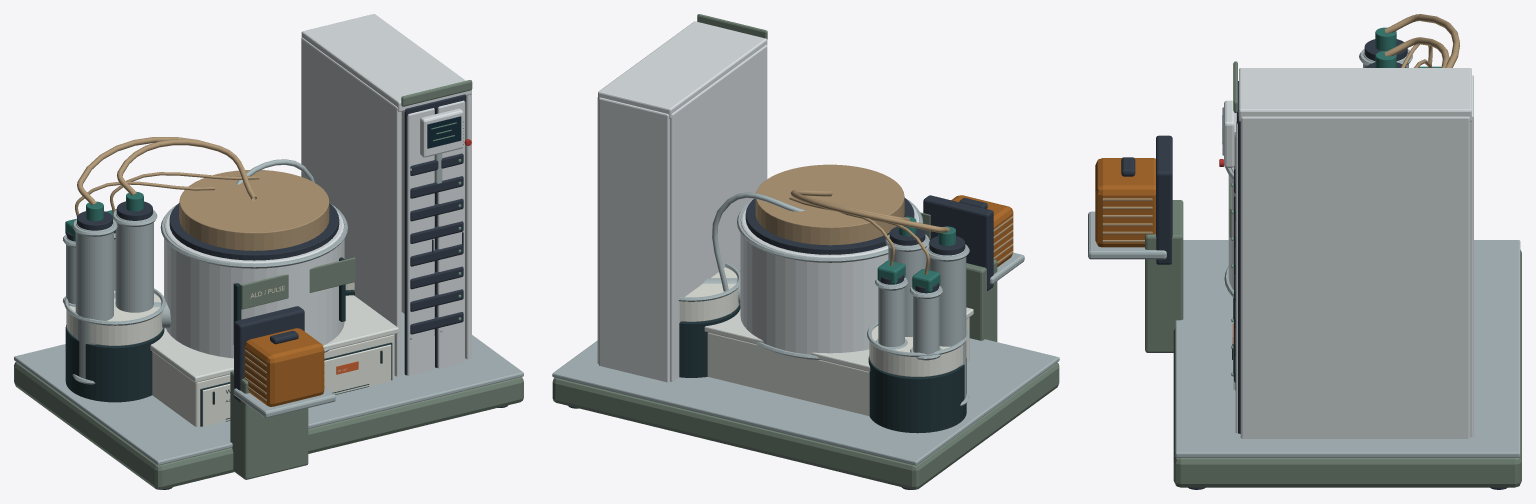
The model's file is equipment-ald.glb.
3 renders of one model, left to right at view 1: azimuth 30°, elevation 25°; view 2: azimuth 150°, elevation 25°; view 3: azimuth 270°, elevation 25°, orthographic. The views are drawn at different scales.
Parts seen in each view (by area): view 1: Side service skin, Raised deck edge, ALD pressure controlled reactor, Segmented service plinth, Heated chamber upper dome, Filtered ceiling, Independent load port base, Removable service door, Auxiliary reaction module, Amber wafer transport pod, Removable service door.001, Satin service deck (+30 smaller); view 2: Rear utility enclosure, Side service skin, Raised deck edge, ALD pressure controlled reactor, Segmented service plinth, Heated chamber upper dome, Filtered ceiling, Precision cabinet, Auxiliary reaction module, Pod docking bulkhead, Heated precursor ampoule, Independent load port base (+14 smaller); view 3: Side service skin.001, Raised deck edge, Segmented service plinth, Filtered ceiling, Amber wafer transport pod, Independent load port base, Pod docking bulkhead, Rear utility enclosure, Pod docking shelf, Removable service door.001, Panel gasket.001, Heated ALD delivery line (+3 smaller).
Part boxes in pixels (bbox=[...]): Side service skin: bbox=[301, 37, 401, 376]; Raised deck edge: bbox=[14, 312, 523, 465]; ALD pressure controlled reactor: bbox=[164, 210, 344, 358]; Segmented service plinth: bbox=[14, 362, 523, 489]; Heated chamber upper dome: bbox=[179, 170, 329, 250]; Filtered ceiling: bbox=[301, 14, 471, 111]; Independent load port base: bbox=[230, 370, 308, 479]; Removable service door: bbox=[407, 108, 434, 375]; Auxiliary reaction module: bbox=[65, 325, 164, 402]; Amber wafer transport pod: bbox=[244, 328, 324, 406]; Removable service door.001: bbox=[437, 100, 464, 368]; Satin service deck: bbox=[150, 295, 398, 382]; Rear utility enclosure: bbox=[599, 97, 669, 382]; Side service skin: bbox=[670, 45, 767, 381]; Raised deck edge: bbox=[552, 338, 1059, 465]; ALD pressure controlled reactor: bbox=[740, 204, 919, 354]; Segmented service plinth: bbox=[552, 362, 1059, 489]; Heated chamber upper dome: bbox=[755, 164, 904, 245]; Filtered ceiling: bbox=[598, 21, 767, 118]; Precision cabinet: bbox=[707, 317, 969, 416]; Auxiliary reaction module: bbox=[868, 356, 966, 433]; Pod docking bulkhead: bbox=[923, 195, 993, 290]; Heated precursor ampoule: bbox=[928, 247, 966, 398]; Independent load port base: bbox=[966, 259, 997, 341]; Side service skin.001: bbox=[1240, 116, 1470, 438]; Raised deck edge: bbox=[1175, 240, 1520, 457]; Segmented service plinth: bbox=[1173, 250, 1521, 487]; Filtered ceiling: bbox=[1239, 68, 1471, 121]; Amber wafer transport pod: bbox=[1095, 158, 1155, 247]; Independent load port base: bbox=[1145, 200, 1183, 352]; Pod docking bulkhead: bbox=[1156, 135, 1172, 264]; Rear utility enclosure: bbox=[1470, 75, 1473, 437]; Pod docking shelf: bbox=[1088, 211, 1166, 259]; Removable service door.001: bbox=[1235, 113, 1237, 433]; Panel gasket.001: bbox=[1238, 121, 1240, 433]; Heated ALD delivery line: bbox=[1384, 14, 1459, 67].
Size of the model in its own units: 6.65 by 5.48 by 5.67.
